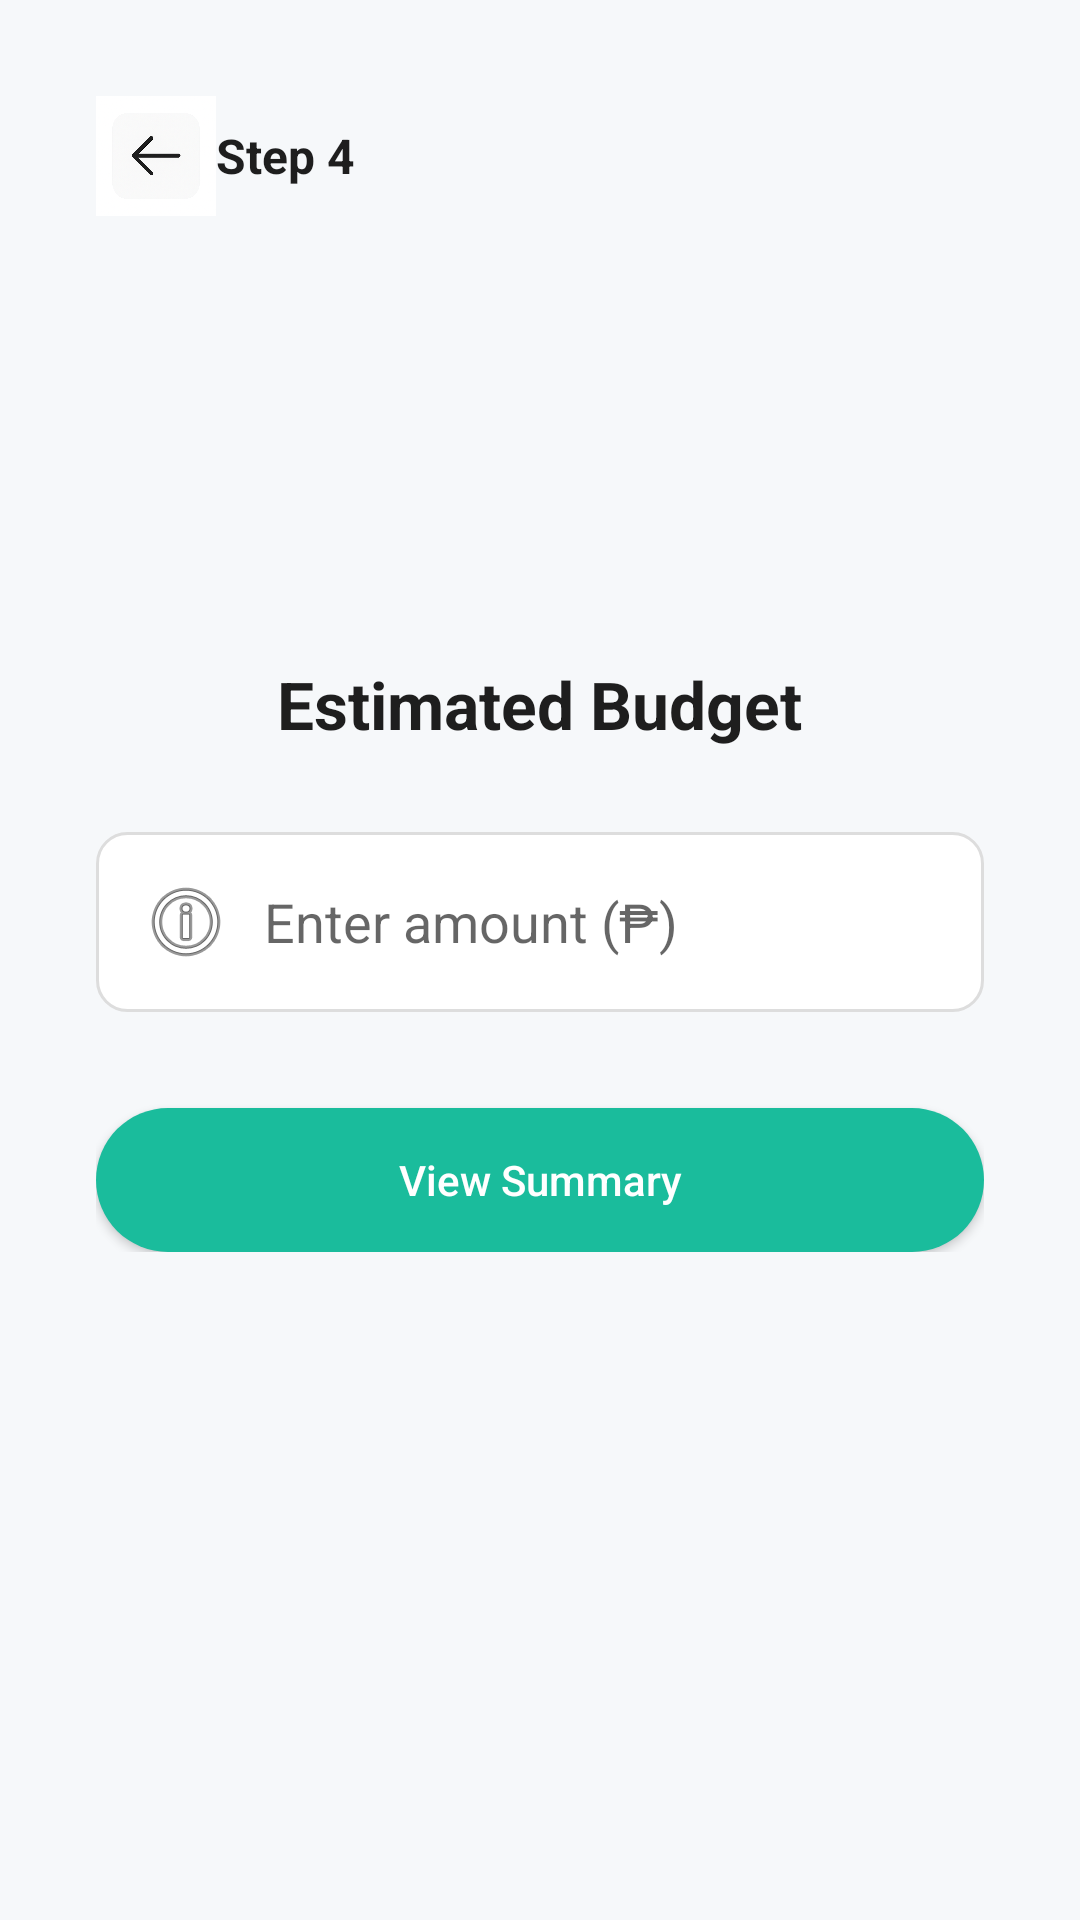

Screen size 1080x1920. Icon name, then its center in pixels as (x=x, y=y):
Back: (x=156, y=155)
